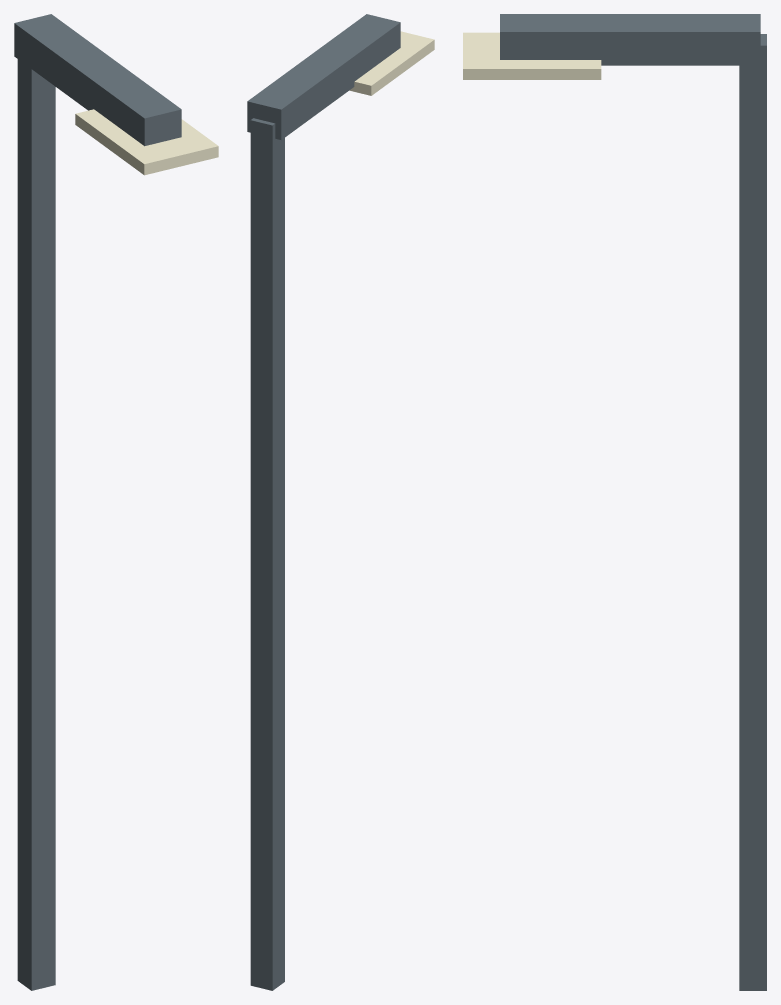
Rendered from city-lamp.glb.
3 renders of one model, left to right at view 1: azimuth 30°, elevation 25°; view 2: azimuth 150°, elevation 25°; view 3: azimuth 270°, elevation 25°, orthographic. The views are drawn at different scales.
Bounding box in the file's own units: 0.28 × 3.46 × 0.99.
